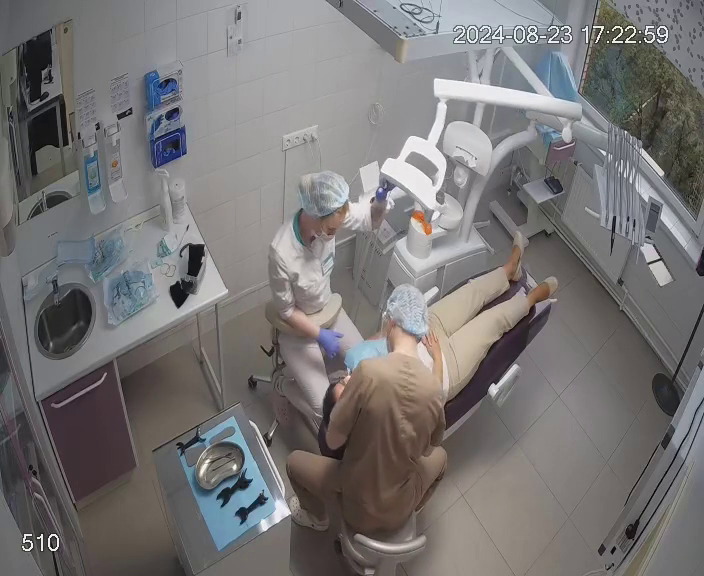Patient: (316, 230, 557, 461)
